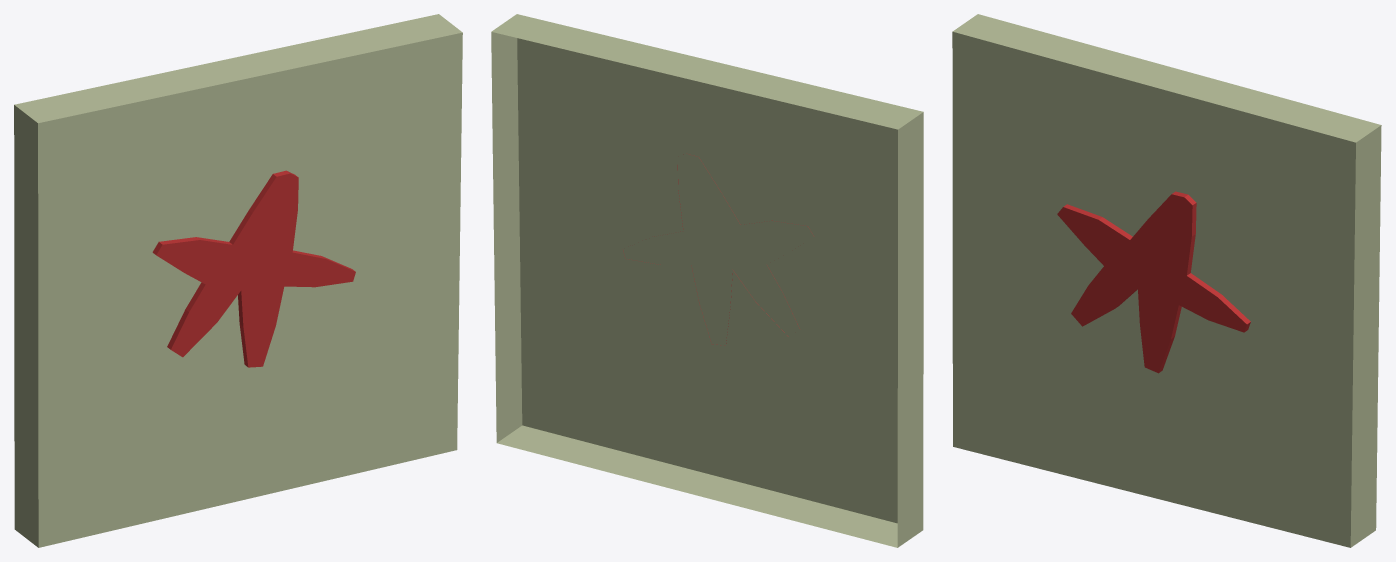
Rendered from Picture_15.fbx.
The picture shows the model from 3 angles, left to right: view 1: azimuth 30°, elevation 25°; view 2: azimuth 150°, elevation 25°; view 3: azimuth 330°, elevation 25°; orthographic projection. The views are drawn at different scales.
Parts seen in each view (by area): view 1: Picture_15; view 2: Picture_15; view 3: Picture_15.
Boxes of the visible parts, x1,y1,x2,y2 form: Picture_15: (14, 14, 462, 547); Picture_15: (491, 14, 923, 547); Picture_15: (952, 14, 1381, 547).
Bounding box in the file's own units: 52.36 × 7.19 × 50.61.
